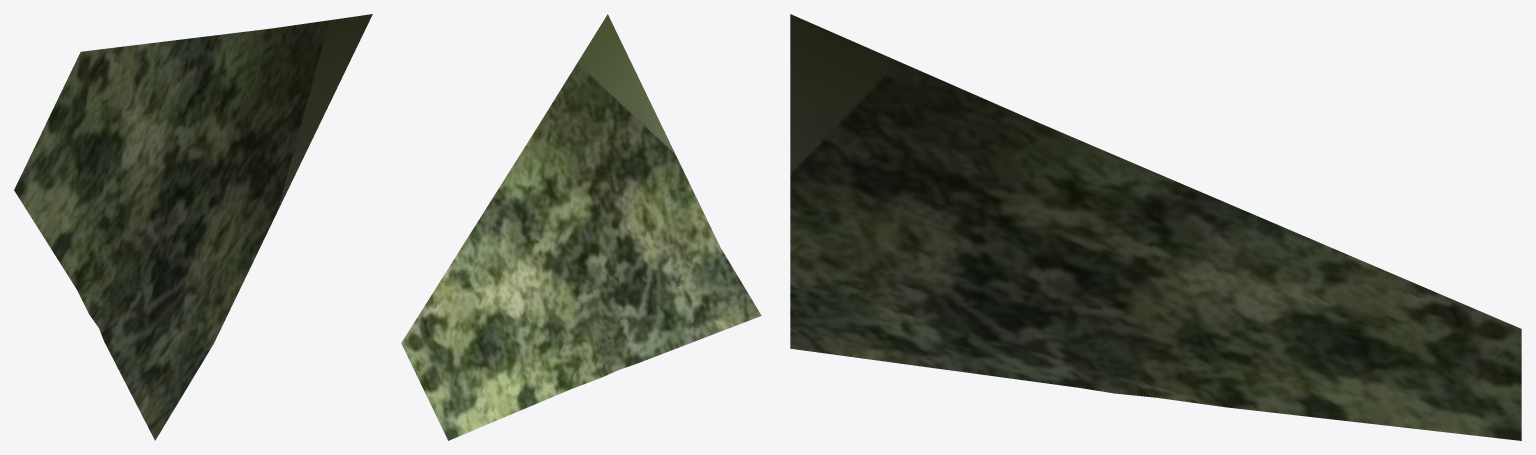
3 renders of one model, left to right at view 1: azimuth 30°, elevation 25°; view 2: azimuth 150°, elevation 25°; view 3: azimuth 270°, elevation 25°, orthographic. The views are drawn at different scales.
Bounding box in the file's own units: 1.27 × 2.08 × 2.95.
Materials: 1 (1 with a texture image).
